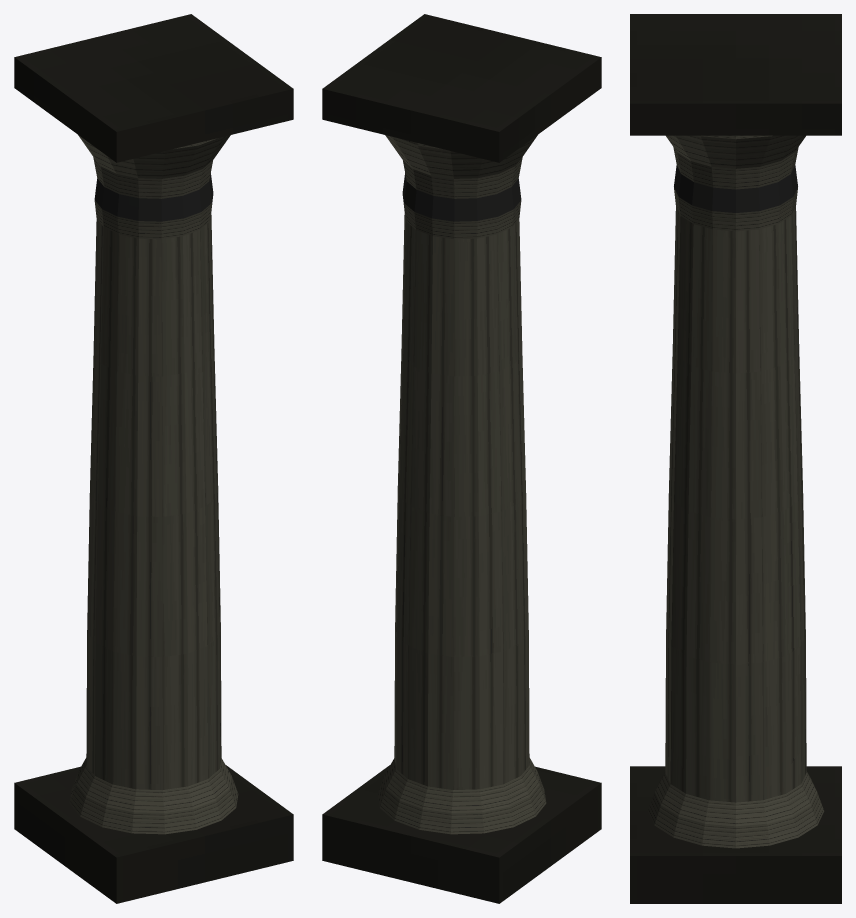
The model's file is marble_column.glb.
3 views of the same model, side by side, from view 1: azimuth 30°, elevation 25°; view 2: azimuth 150°, elevation 25°; view 3: azimuth 270°, elevation 25° (orthographic). The views are drawn at different scales.
Parts seen in each view (by area): view 1: MarbleColumn; view 2: MarbleColumn; view 3: MarbleColumn.
Part boxes in pixels (x1,y1,x2,y2): MarbleColumn: [14, 14, 293, 903]; MarbleColumn: [322, 14, 601, 903]; MarbleColumn: [630, 14, 841, 903].
Size of what is drawn, in the model's own units: 1.2 by 5 by 1.2.
Materials: 3 (3 with a texture image).
